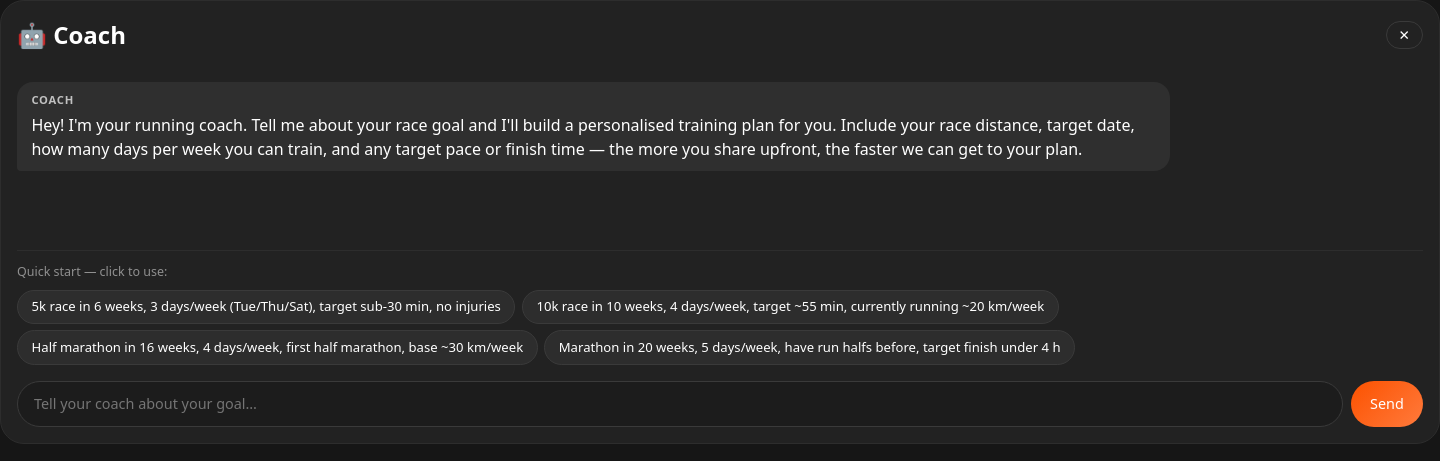
Test: CoachPlanWizard › hides example prompts after the user sends a message
This screenshot has width=1440, height=461.
Type "I want to run a 10k" into the field with placeholder "Tell your coach about your goal…" at (680, 404), box 17,381 -> 1343,427
Then press Enter
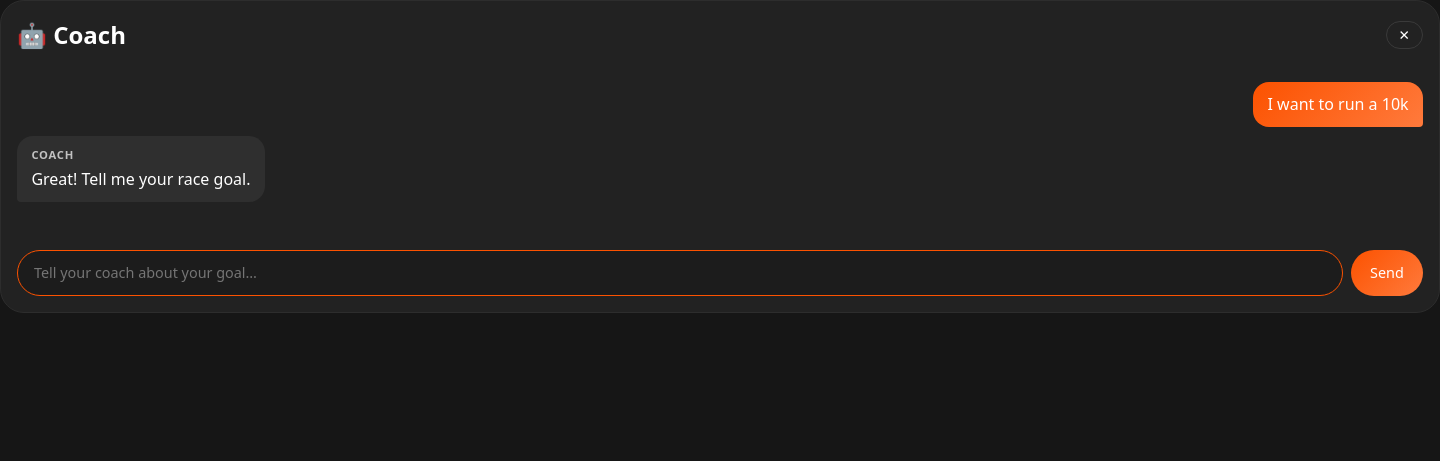
Now the text "Quick start" is gone
